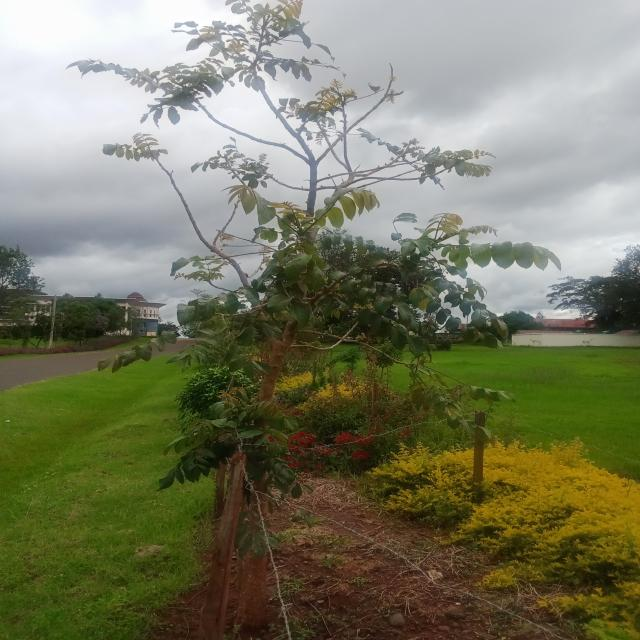Polyscias Kikuyensis: (59, 3, 564, 629)
